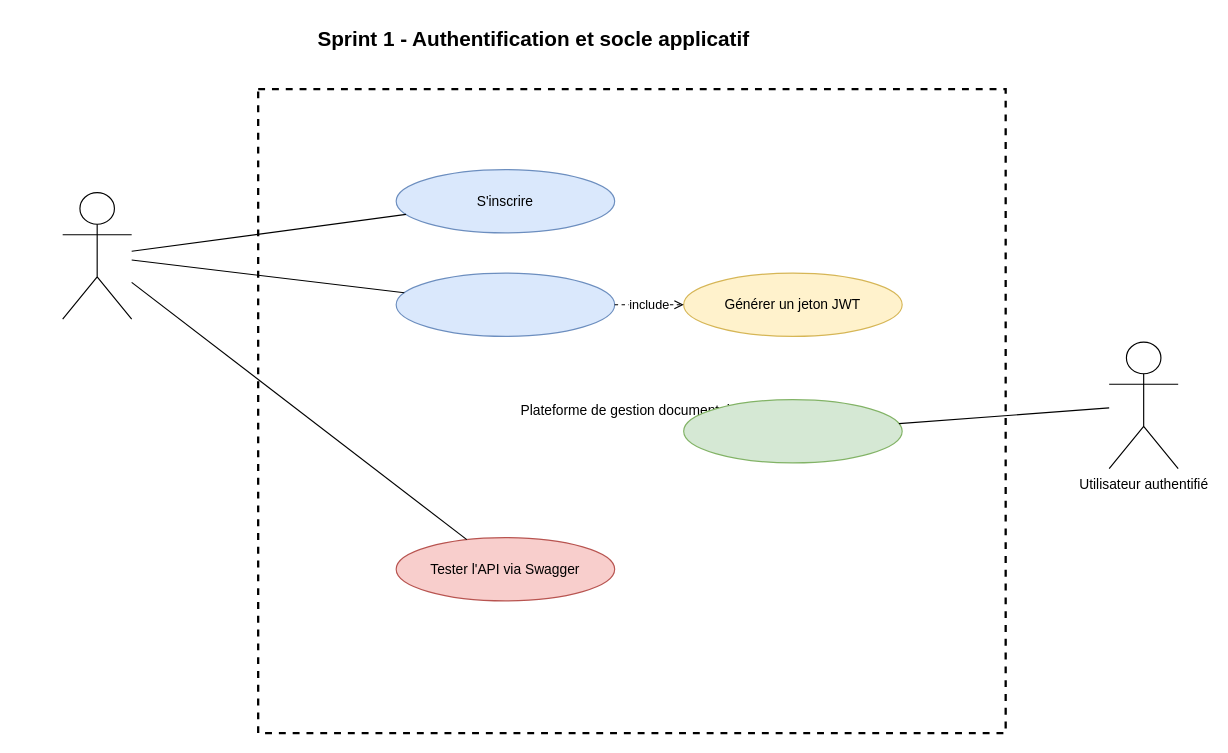
The diagram is 1228 pixels wide and 753 high, and some of its shapes have lost their labels. Here are the shapes that lost their labels. From the top down, the centre of each, then its label:
point 97,255: Utilisateur non authentifié
point 505,304: Se connecter
point 792,430: Consulter le profil
